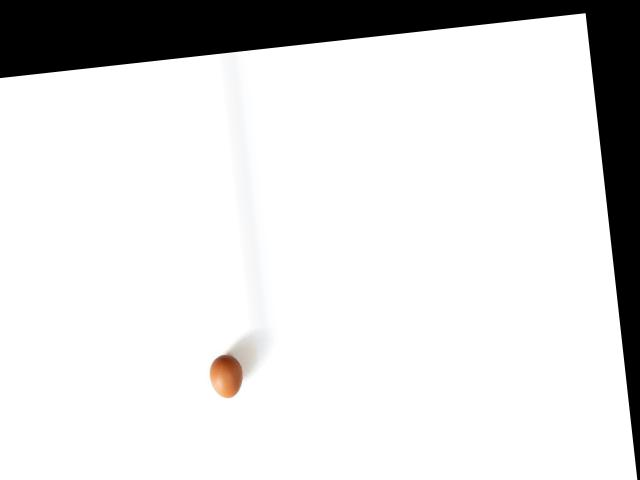egg: (207, 352, 244, 399)
